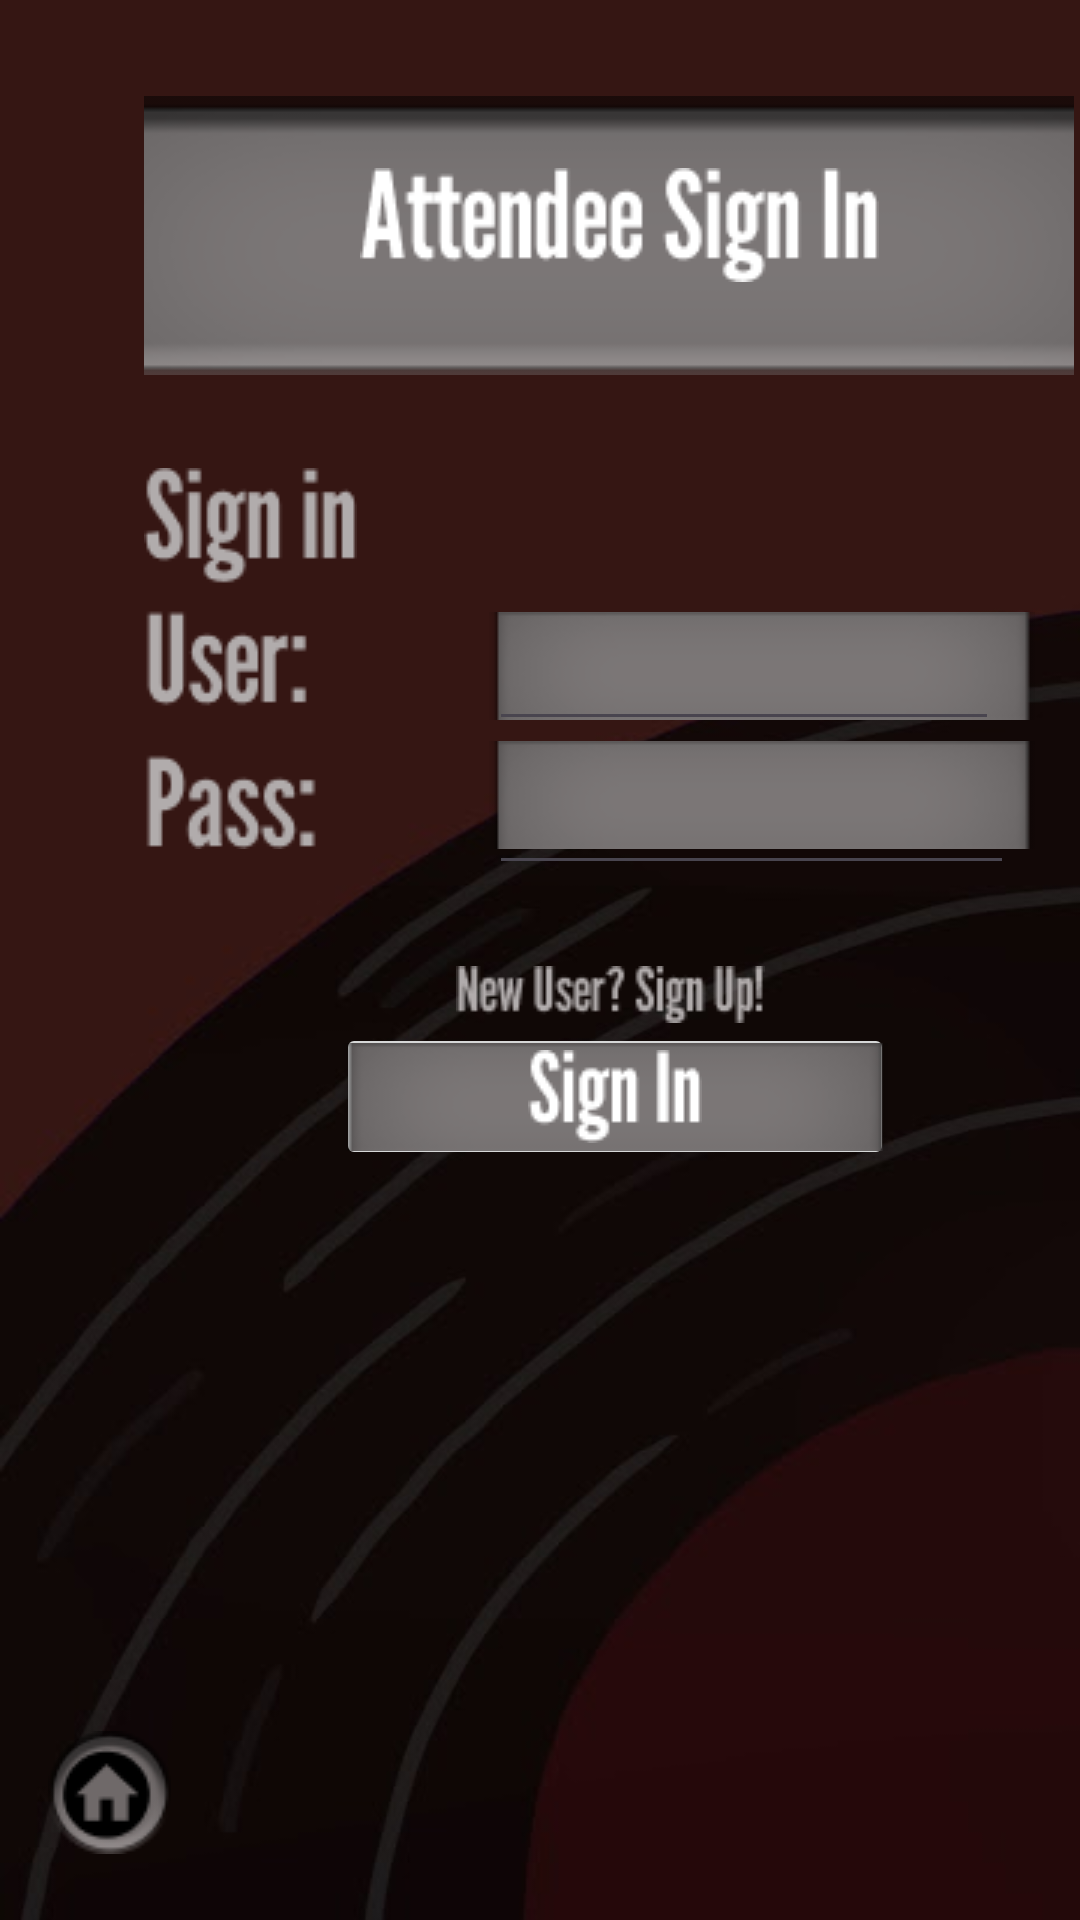

Icons on this 1080w x 1920h Android screen, each with the point to tap as (x=x, y=y):
home circle: (x=106, y=1795)
